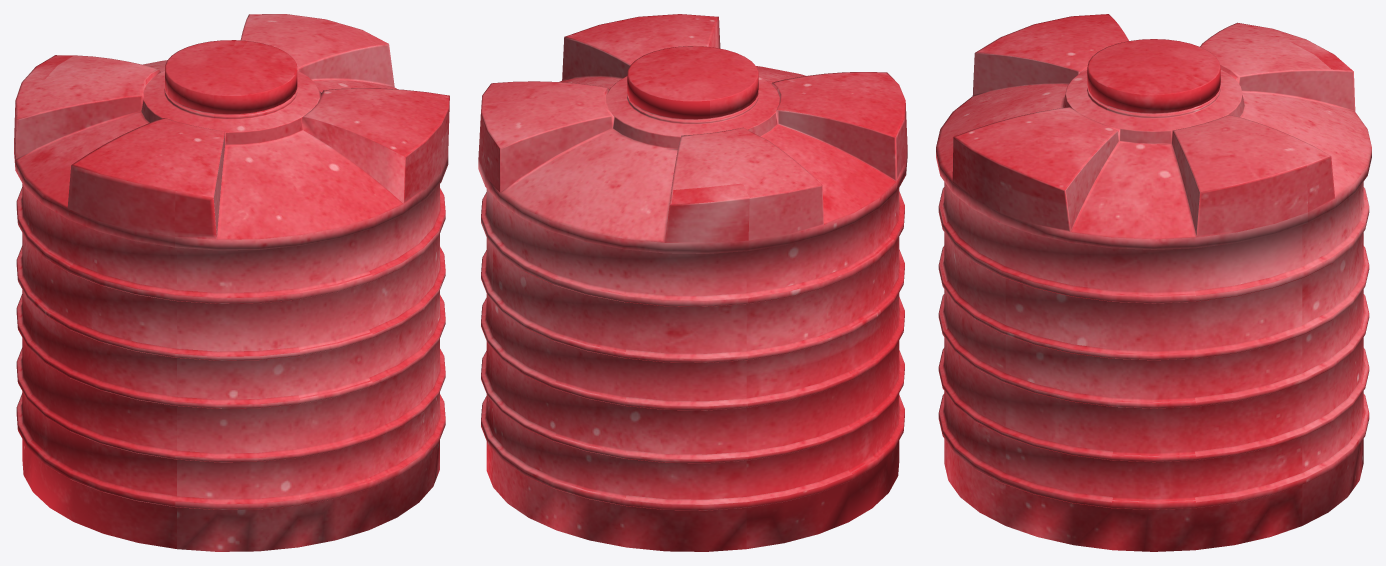
3 renders of one model, left to right at view 1: azimuth 30°, elevation 25°; view 2: azimuth 150°, elevation 25°; view 3: azimuth 270°, elevation 25°, orthographic.
Visible parts, largest first — view 1: water_tank__z_brush; view 2: water_tank__z_brush; view 3: water_tank__z_brush.
Boxes of the visible parts, x1=… form: water_tank__z_brush: x1=14, y1=14, x2=449, y2=551; water_tank__z_brush: x1=478, y1=14, x2=907, y2=551; water_tank__z_brush: x1=936, y1=14, x2=1371, y2=551.
Bounding box in the file's own units: 287 × 291 × 287.
Materials: 1 (1 with a texture image).
